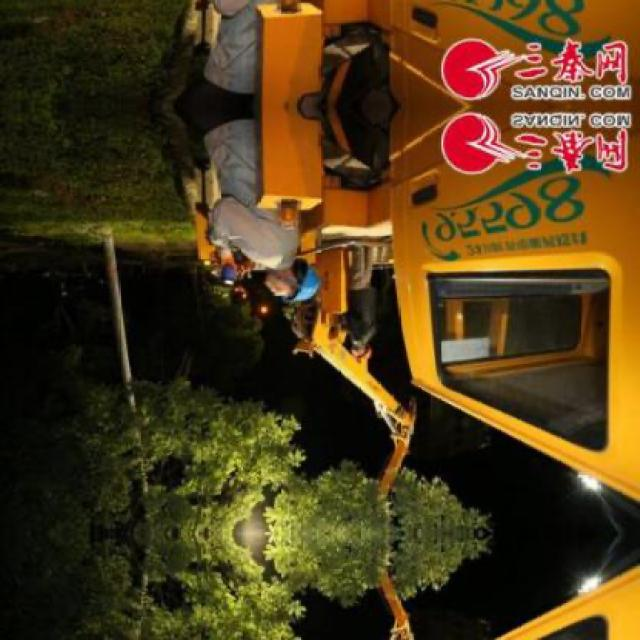con casco: (251, 258, 332, 329)
